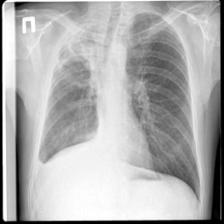tuberculosis: (34, 7, 203, 202)
